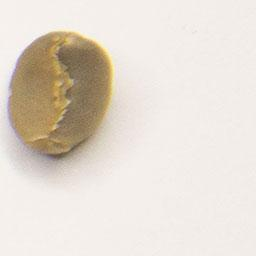premium: (5, 26, 118, 160)
